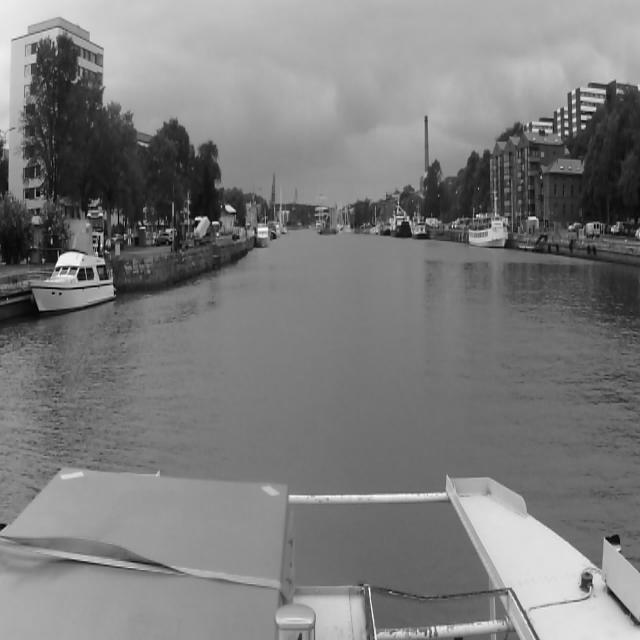ship: (30, 254, 119, 316), (468, 218, 508, 246), (256, 227, 268, 246), (320, 227, 341, 236)
